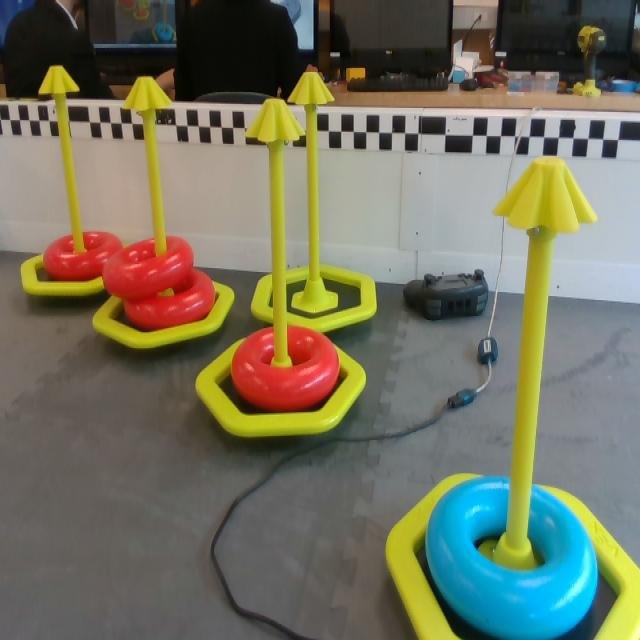Blue-Ring: (422, 476, 613, 639)
Mobile-Goal: (376, 156, 639, 639), (190, 96, 378, 438), (89, 73, 241, 355), (249, 72, 381, 336), (20, 62, 138, 303)
Red-Ring: (231, 323, 337, 410), (103, 235, 194, 305), (126, 269, 216, 323), (44, 234, 124, 288)
Yellow-Stake-Head: (491, 155, 599, 233), (246, 99, 305, 142), (122, 77, 173, 111), (288, 74, 336, 107), (40, 66, 80, 95)
